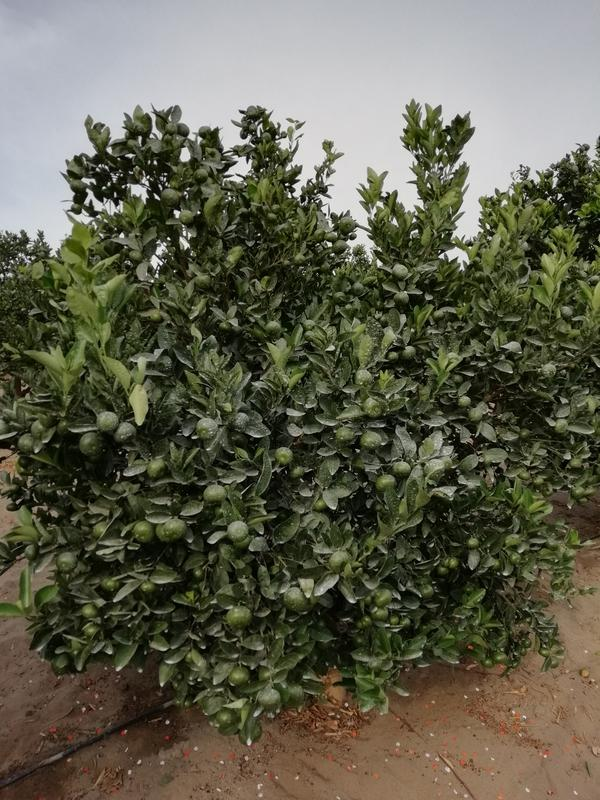mandarina verde: (226, 606, 254, 630), (79, 432, 104, 458), (283, 587, 307, 612), (95, 410, 119, 434), (163, 519, 188, 540), (133, 520, 155, 543), (257, 689, 281, 710), (56, 552, 79, 573), (227, 521, 249, 542), (196, 417, 217, 439), (204, 483, 228, 502), (329, 550, 350, 571), (363, 399, 384, 419), (229, 667, 252, 685), (117, 423, 137, 443), (274, 446, 294, 465), (148, 458, 167, 478), (18, 432, 35, 454), (360, 432, 383, 448), (161, 188, 180, 207), (373, 588, 393, 606), (335, 425, 356, 442), (216, 711, 238, 727), (390, 460, 412, 476), (355, 369, 373, 388), (391, 263, 408, 282), (376, 475, 396, 491), (100, 576, 121, 591), (338, 217, 356, 234), (369, 607, 389, 622), (192, 168, 209, 184), (92, 520, 108, 537), (419, 583, 435, 600), (80, 603, 98, 618), (333, 238, 348, 256), (265, 321, 281, 337), (467, 406, 483, 422), (25, 543, 40, 560), (179, 208, 194, 225), (540, 364, 556, 379), (331, 290, 346, 306), (443, 554, 458, 569), (402, 345, 416, 360), (554, 418, 568, 433), (32, 419, 45, 435), (395, 292, 410, 305), (129, 250, 144, 263), (571, 487, 586, 500), (507, 552, 521, 565), (546, 537, 559, 551), (142, 581, 158, 592), (466, 537, 479, 550), (177, 123, 190, 136), (351, 282, 364, 295), (560, 306, 573, 319), (563, 547, 576, 560), (313, 229, 325, 243), (518, 427, 532, 439), (432, 310, 446, 322), (302, 319, 316, 331), (323, 230, 338, 241), (266, 212, 279, 224), (70, 203, 83, 215), (459, 396, 471, 408), (518, 470, 531, 481), (165, 124, 176, 135), (387, 352, 398, 363), (534, 476, 545, 487), (389, 614, 400, 625), (571, 458, 583, 468), (270, 202, 281, 212)
